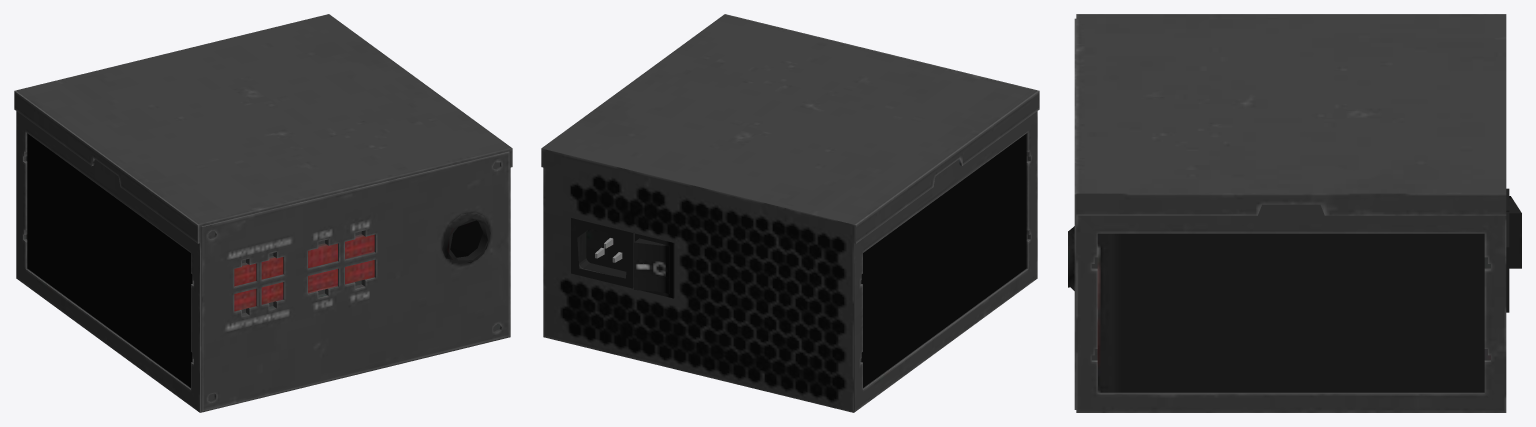
File: psu-bequiet-pp12m-650_lod2.glb
The picture shows the model from 3 angles, left to right: view 1: azimuth 30°, elevation 25°; view 2: azimuth 150°, elevation 25°; view 3: azimuth 270°, elevation 25°; orthographic projection. The views are drawn at different scales.
Visible parts, largest first — view 1: body; view 2: body; view 3: body.
Boxes of the visible parts, x1=… form: body: x1=14, y1=14, x2=512, y2=412; body: x1=541, y1=14, x2=1039, y2=412; body: x1=1068, y1=14, x2=1521, y2=412.
Size of the model in its own units: 0.15 by 0.086 by 0.16.
1 material, 1 textured.
